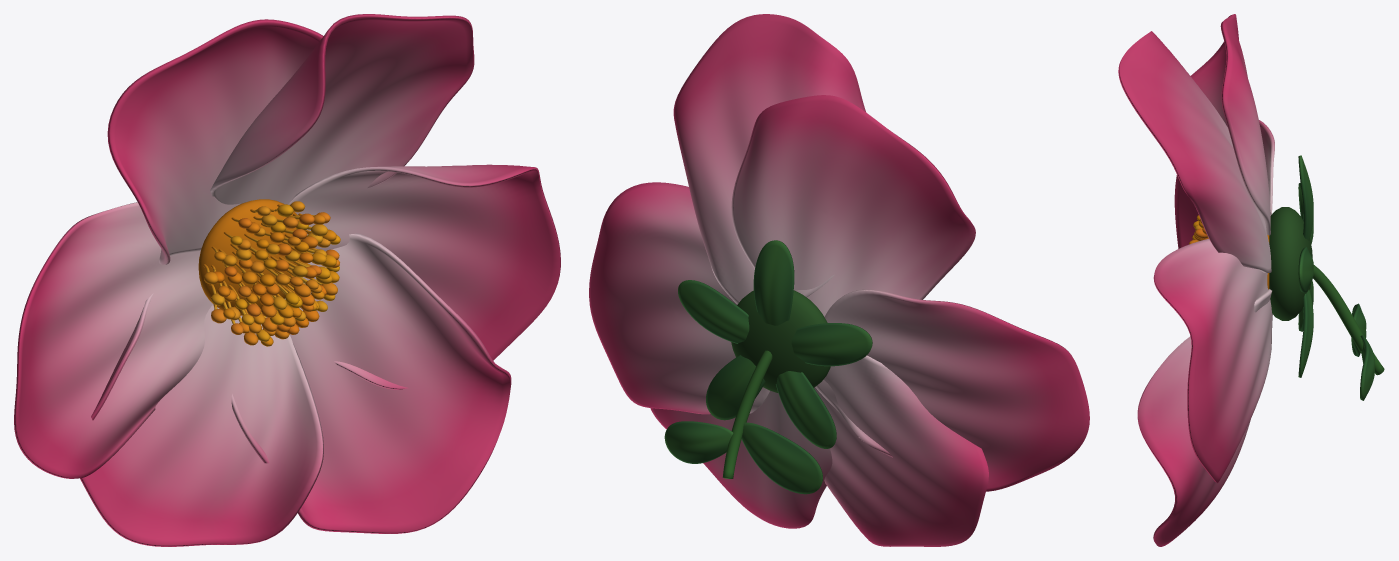
File: petal-model.glb
The picture shows the model from 3 angles, left to right: view 1: azimuth 30°, elevation 25°; view 2: azimuth 150°, elevation 25°; view 3: azimuth 270°, elevation 25°; orthographic projection. The views are drawn at different scales.
Visible parts, largest first — view 1: petal-06-broad-curled-pink, petal-04-broad-curled-pink, petal-05-broad-curled-pink, petal-02-broad-curled-pink, petal-01-broad-curled-pink, petal-03-broad-curled-pink, center-01-golden-receptive-dome; view 2: petal-03-broad-curled-pink, petal-04-broad-curled-pink, petal-01-broad-curled-pink, petal-02-broad-curled-pink, petal-05-broad-curled-pink, petal-06-broad-curled-pink, back-green-receptacle, short-stem-leaf-left, back-sepal-03, back-sepal-02, back-sepal-04, back-sepal-01 (+3 smaller); view 3: petal-01-broad-curled-pink, petal-02-broad-curled-pink, petal-06-broad-curled-pink, petal-03-broad-curled-pink, back-green-receptacle, petal-04-broad-curled-pink, short-curved-stem, back-sepal-02, back-sepal-05, short-stem-leaf-right, back-sepal-01, short-stem-leaf-left.
Part boxes in pixels (left/top/right/bottom): petal-06-broad-curled-pink: left=231, top=233, right=511, bottom=533; petal-04-broad-curled-pink: left=14, top=202, right=212, bottom=478; petal-05-broad-curled-pink: left=80, top=293, right=323, bottom=546; petal-02-broad-curled-pink: left=210, top=14, right=474, bottom=204; petal-01-broad-curled-pink: left=288, top=164, right=560, bottom=389; petal-03-broad-curled-pink: left=107, top=19, right=323, bottom=264; center-01-golden-receptive-dome: left=198, top=199, right=300, bottom=315; petal-03-broad-curled-pink: left=731, top=95, right=975, bottom=316; petal-04-broad-curled-pink: left=815, top=289, right=1089, bottom=491; petal-01-broad-curled-pink: left=589, top=182, right=770, bottom=414; petal-02-broad-curled-pink: left=673, top=14, right=865, bottom=304; petal-05-broad-curled-pink: left=814, top=355, right=988, bottom=546; petal-06-broad-curled-pink: left=650, top=391, right=832, bottom=528; back-green-receptacle: left=731, top=290, right=830, bottom=392; short-stem-leaf-left: left=741, top=422, right=822, bottom=494; back-sepal-03: left=791, top=323, right=872, bottom=366; back-sepal-02: left=753, top=240, right=794, bottom=325; back-sepal-04: left=776, top=371, right=836, bottom=448; back-sepal-01: left=678, top=280, right=749, bottom=343; petal-01-broad-curled-pink: left=1153, top=238, right=1272, bottom=483; petal-02-broad-curled-pink: left=1118, top=31, right=1271, bottom=272; petal-06-broad-curled-pink: left=1137, top=289, right=1271, bottom=546; petal-03-broad-curled-pink: left=1190, top=14, right=1270, bottom=235; back-green-receptacle: left=1269, top=207, right=1312, bottom=320; petal-04-broad-curled-pink: left=1174, top=120, right=1274, bottom=248; short-curved-stem: left=1313, top=265, right=1384, bottom=375; back-sepal-02: left=1298, top=155, right=1313, bottom=240; back-sepal-05: left=1298, top=289, right=1313, bottom=377; short-stem-leaf-right: left=1360, top=335, right=1374, bottom=400; back-sepal-01: left=1298, top=247, right=1313, bottom=293; short-stem-leaf-left: left=1351, top=303, right=1366, bottom=356.
Size of the model in its own units: 4.54 by 4.26 by 2.13.
